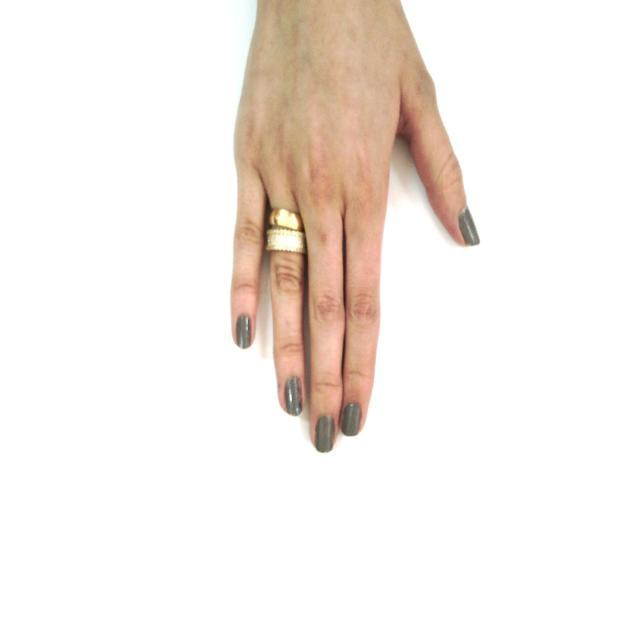Fingernail: (315, 416, 335, 455), (460, 208, 479, 246), (341, 402, 361, 438), (284, 377, 302, 416), (235, 314, 251, 349)
